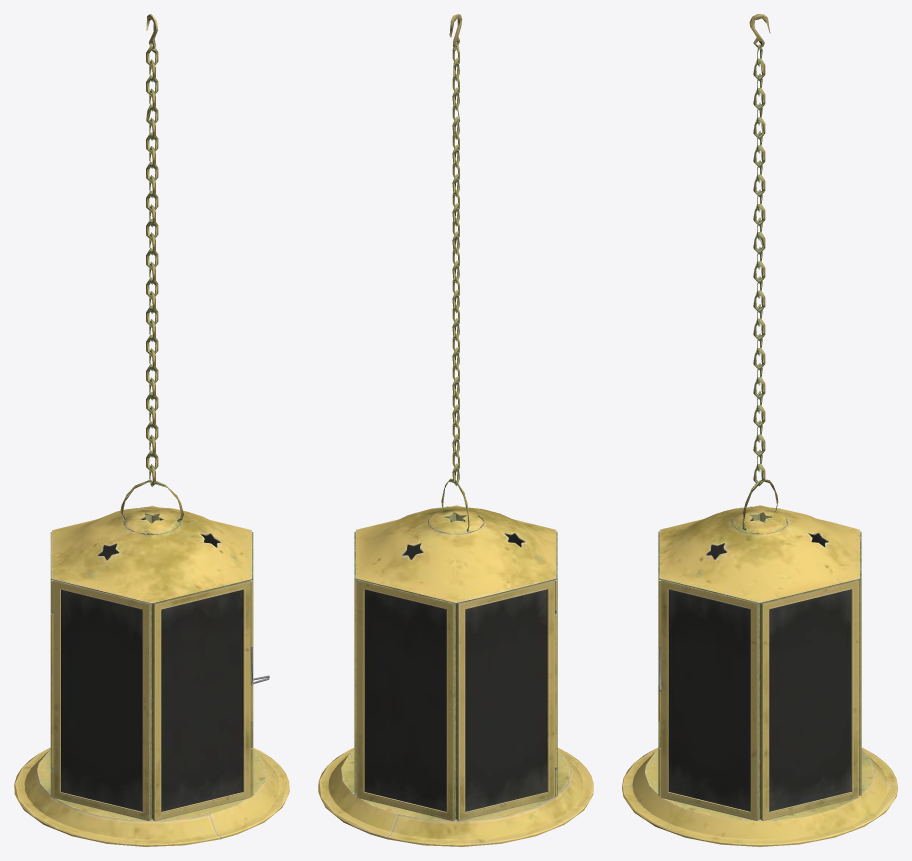
Rendered from brass_diya_lantern.glb.
3 views of the same model, side by side, from view 1: azimuth 30°, elevation 25°; view 2: azimuth 150°, elevation 25°; view 3: azimuth 270°, elevation 25° (orthographic).
Visible parts, largest first — view 1: brass_diya_lantern, brass_diya_lantern_connection; view 2: brass_diya_lantern, brass_diya_lantern_connection; view 3: brass_diya_lantern, brass_diya_lantern_connection.
Part boxes in pixels (x1=…): brass_diya_lantern: x1=14, y1=505, x2=289, y2=846; brass_diya_lantern_connection: x1=120, y1=14, x2=183, y2=521; brass_diya_lantern: x1=318, y1=505, x2=593, y2=846; brass_diya_lantern_connection: x1=441, y1=14, x2=469, y2=531; brass_diya_lantern: x1=622, y1=505, x2=897, y2=846; brass_diya_lantern_connection: x1=742, y1=14, x2=778, y2=530.
Size of the model in its own units: 0.123 by 0.3807 by 0.123.
Materials: 3 (3 with a texture image).
